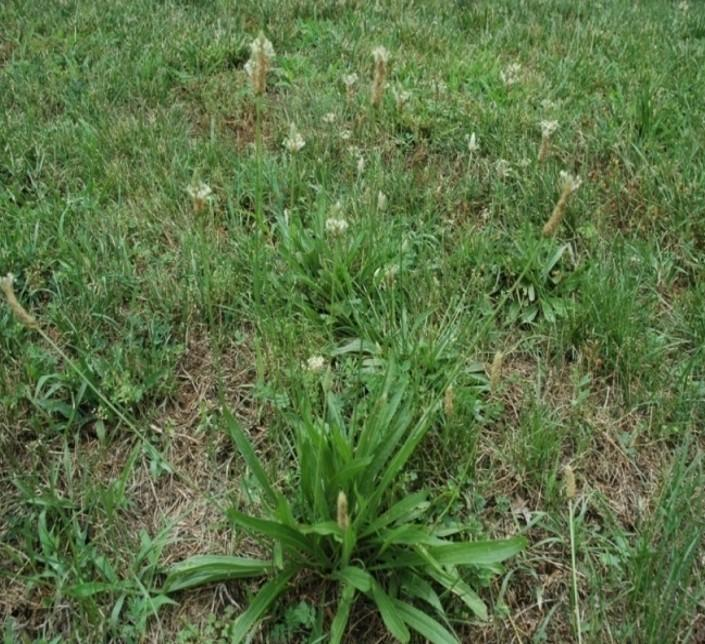buckhorn plantain: (86, 26, 585, 605)
